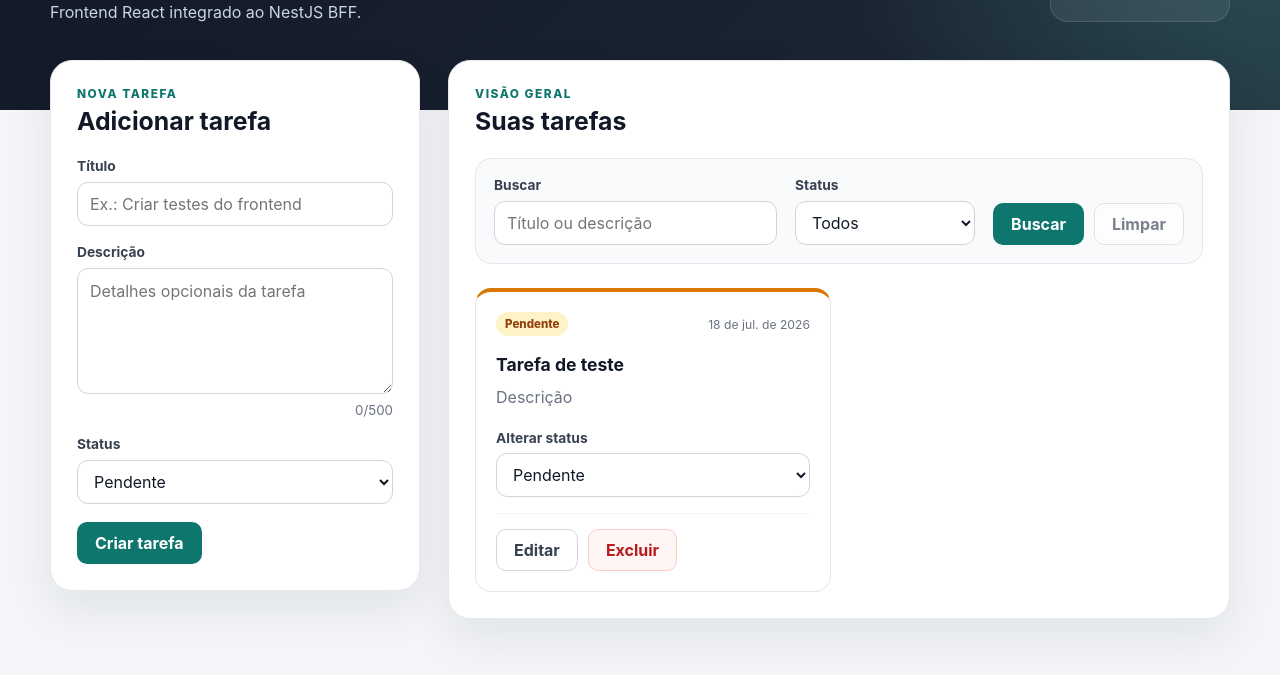
Test: App › cancels editing from the form
This screenshot has width=1280, height=675.
(page scrolled)
Click the button "Editar".
click(537, 550)  # box [496,529,578,571]
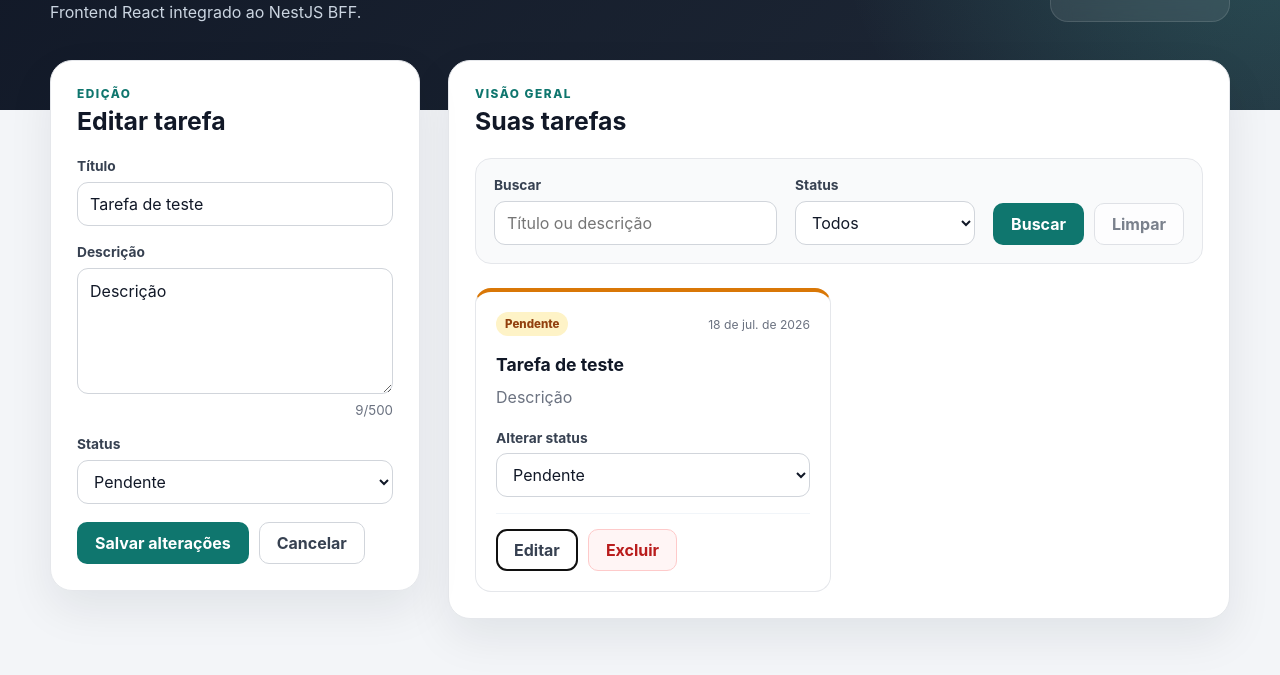
Click the button "Cancelar".
click(312, 543)  # box [259,522,365,564]
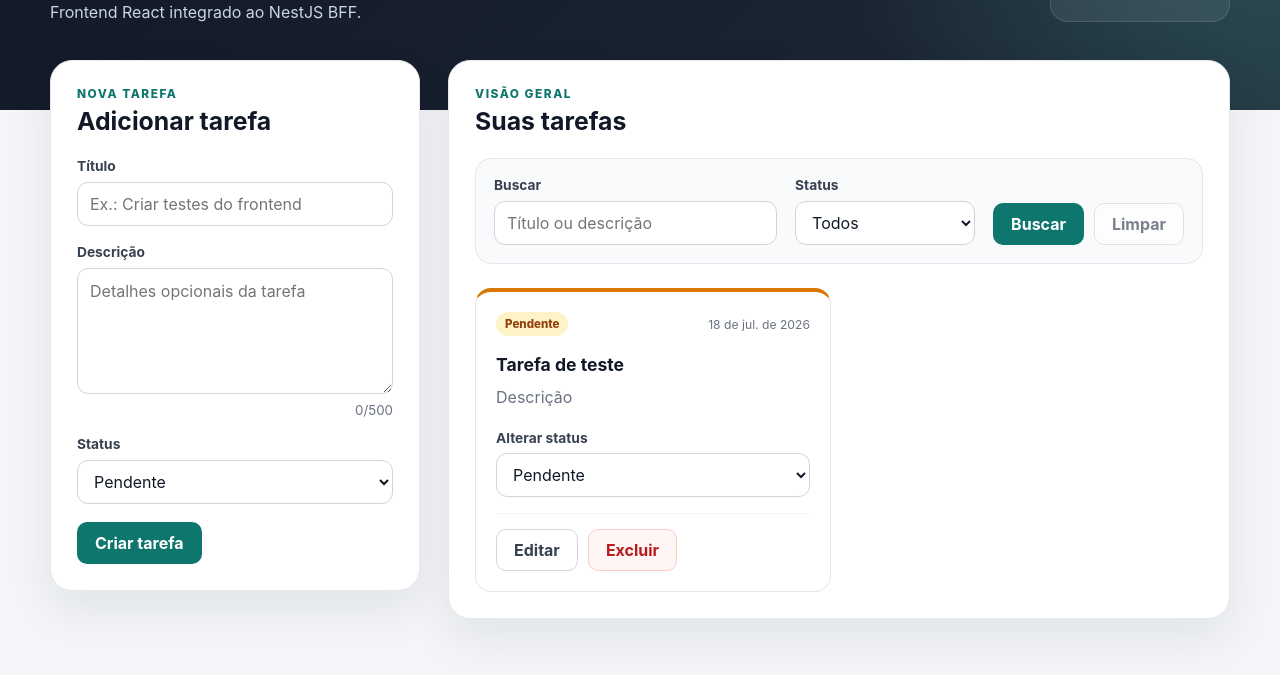
Expected: the heading "Adicionar tarefa" is shown, [77,106,271,136]
